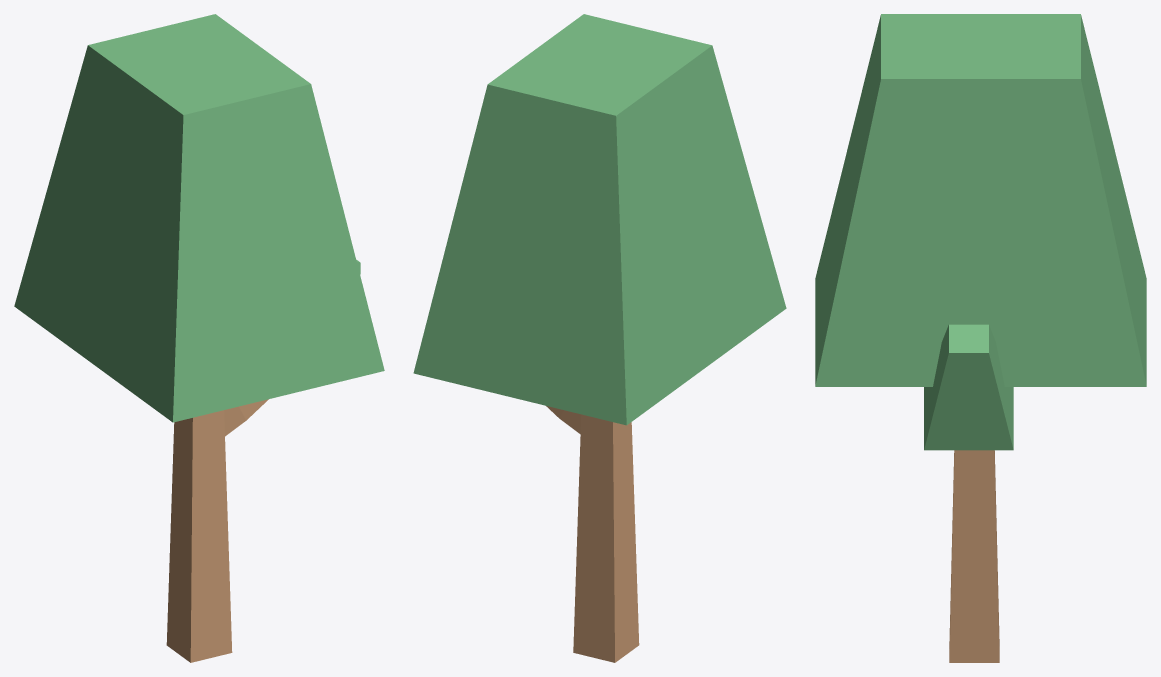
Rendered from tree.gltf.
The picture shows the model from 3 angles, left to right: view 1: azimuth 30°, elevation 25°; view 2: azimuth 150°, elevation 25°; view 3: azimuth 270°, elevation 25°; orthographic projection. The views are drawn at different scales.
Parts seen in each view (by area): view 1: Cube; view 2: Cube; view 3: Cube.
Boxes of the visible parts, <box> form: Cube: <box>14,14,384,662</box>; Cube: <box>413,14,786,662</box>; Cube: <box>815,14,1146,662</box>.
Bounding box in the file's own units: 4.11 × 9.08 × 4.49.
1 material, 1 textured.
